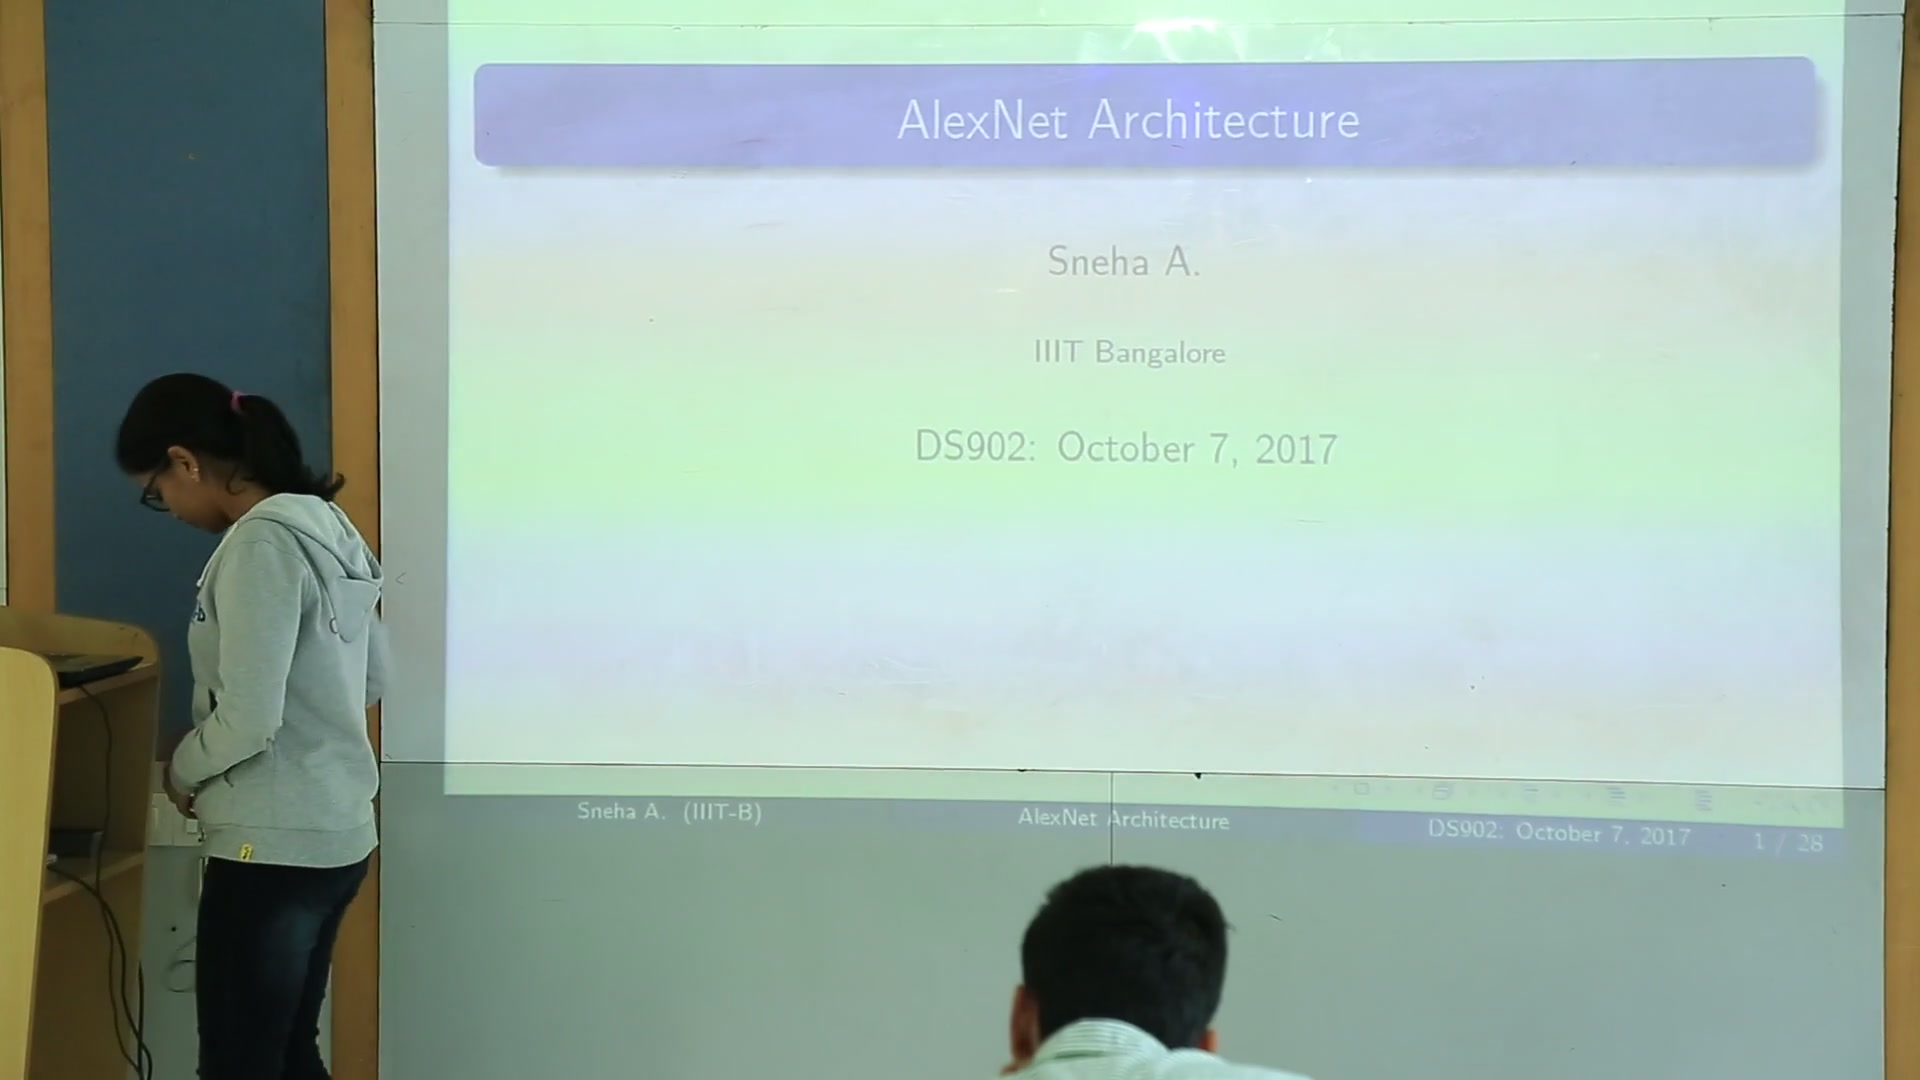slide: (448, 1, 1844, 858)
